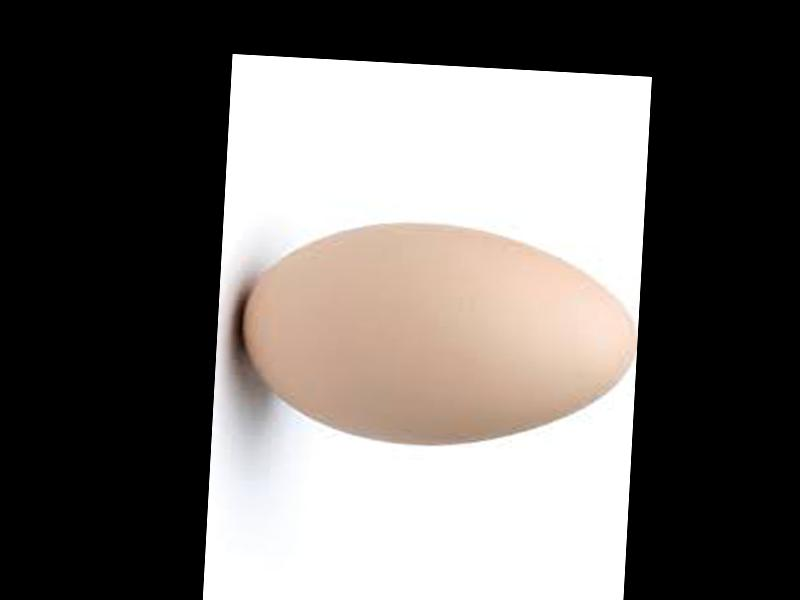Eggs: (233, 215, 640, 455)
